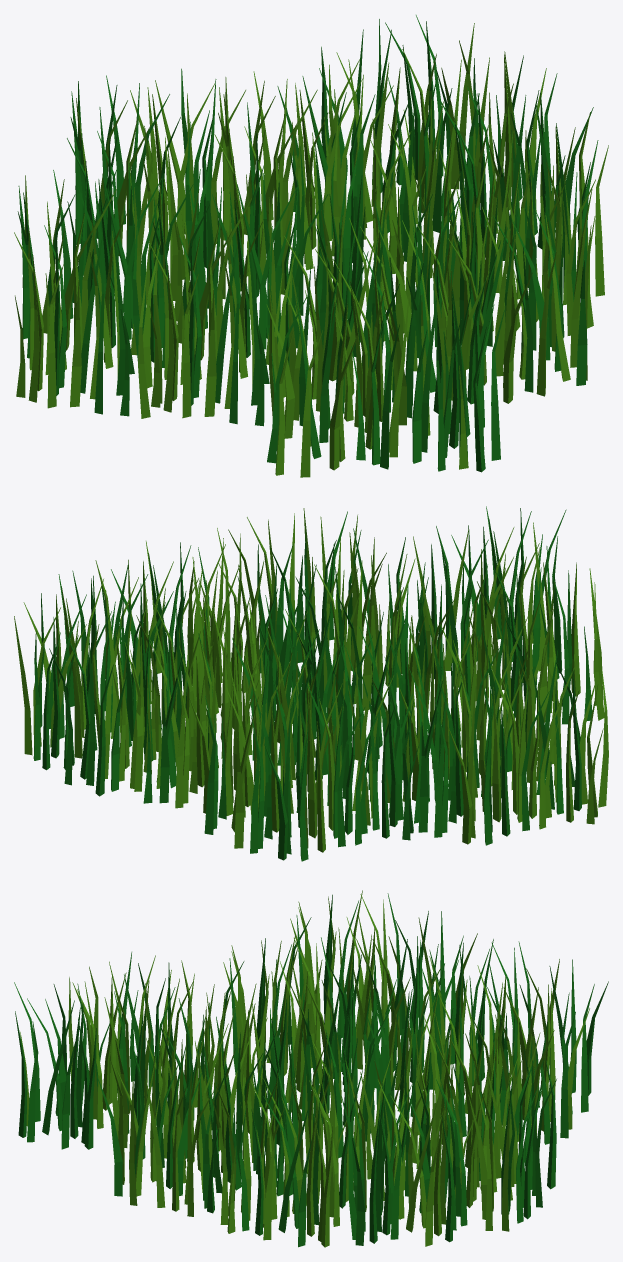
3 views of the same model, one above another, from view 1: azimuth 30°, elevation 25°; view 2: azimuth 150°, elevation 25°; view 3: azimuth 270°, elevation 25° (orthographic). The views are drawn at different scales.
Bounding box in the file's own units: 2.78 × 0.8967 × 2.84.
